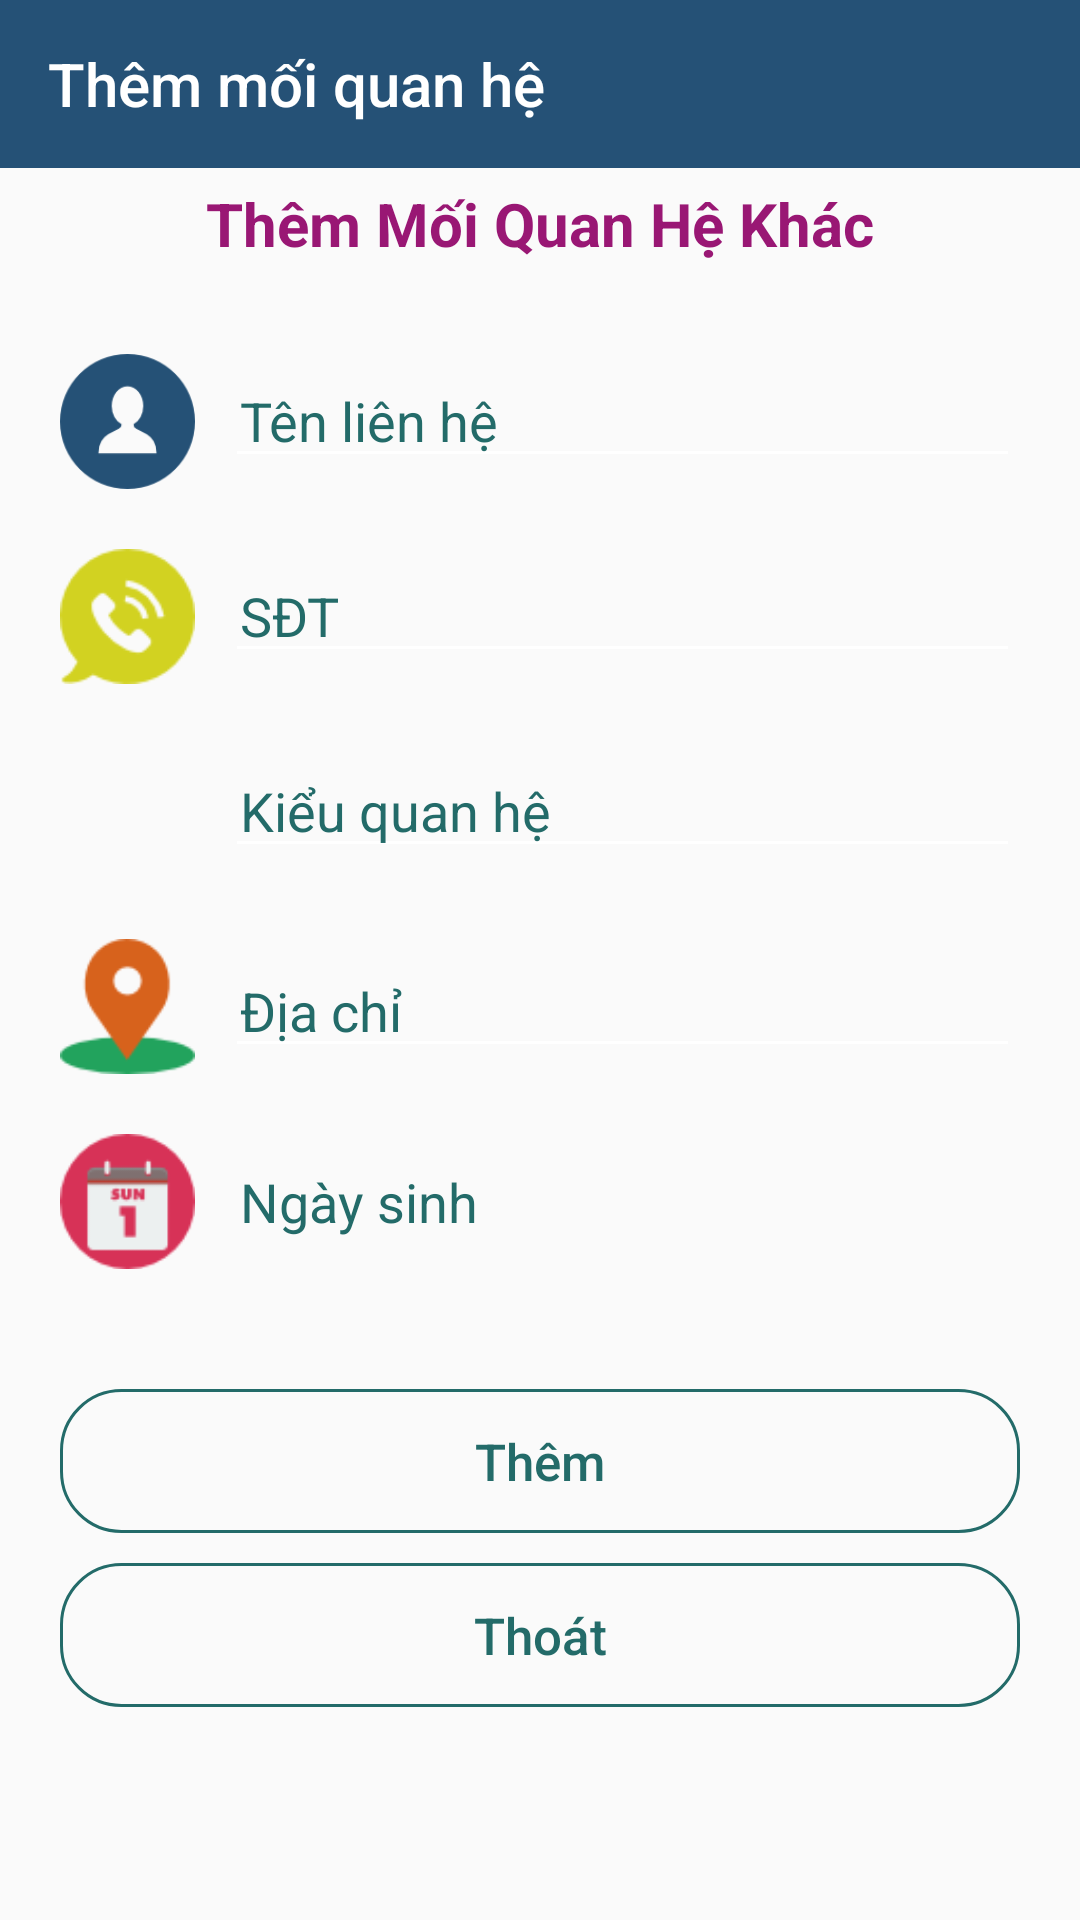

Icon click points for this 1080 × 1920 phone screenshot, format (x=x, y=y):
alendar: (x=127, y=1201)
